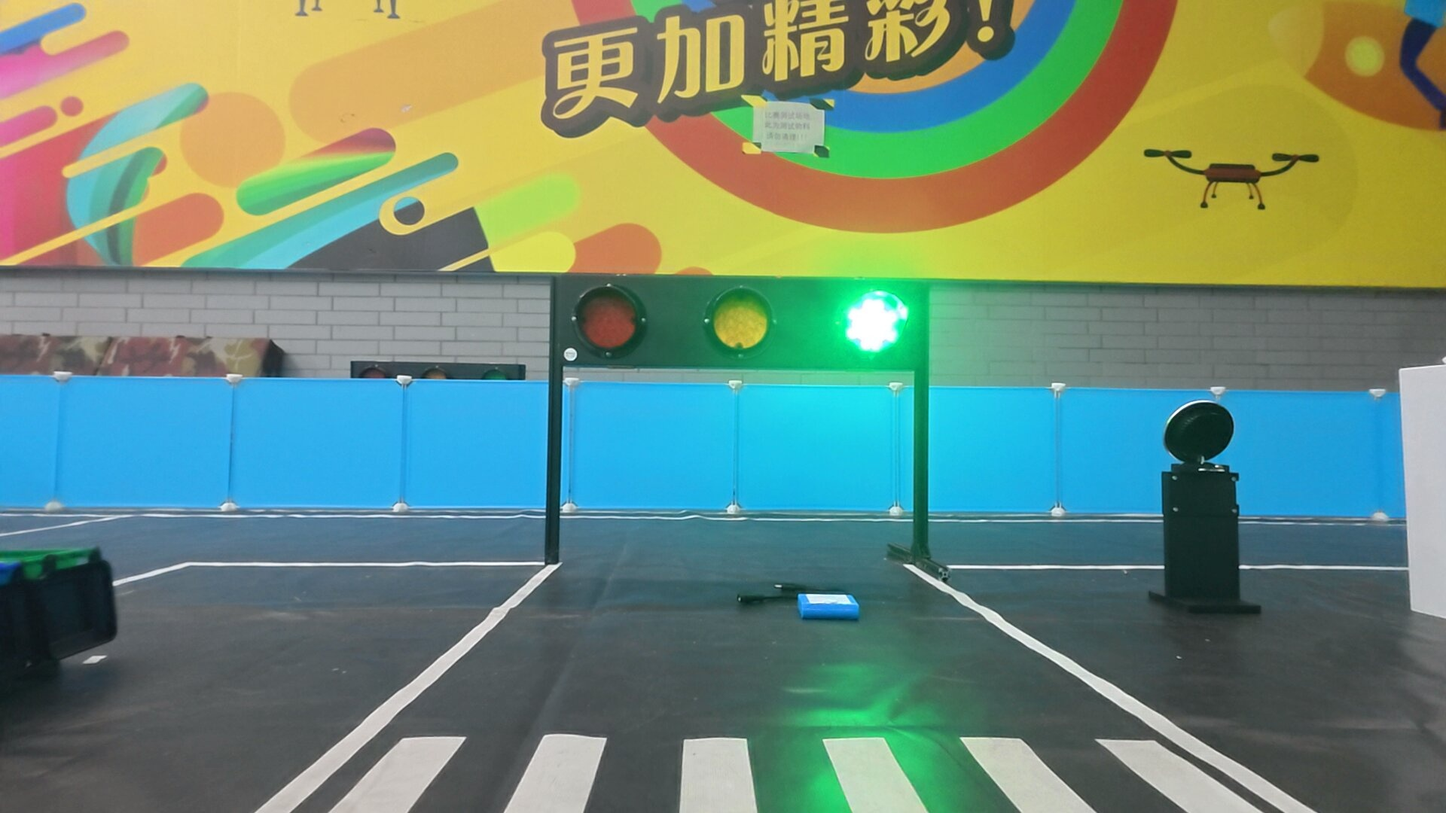go: (839, 285, 914, 363)
